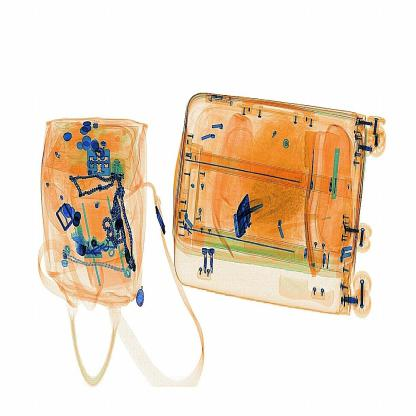pliers: (232, 198, 269, 218)
